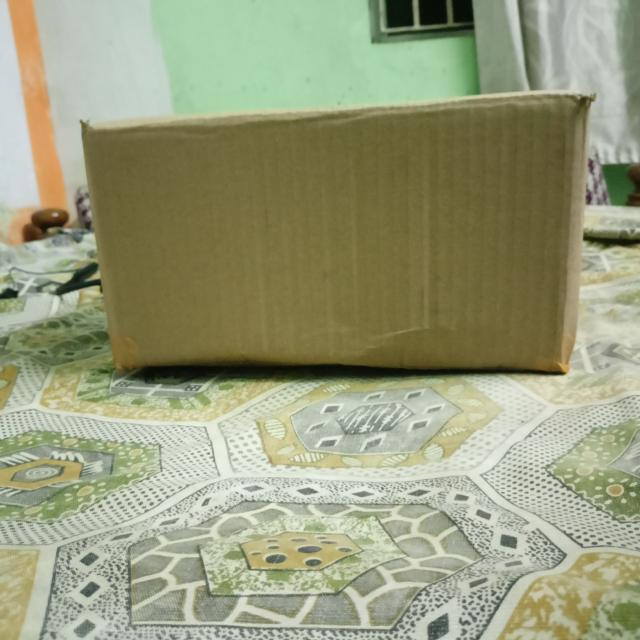box: (79, 93, 583, 371)
